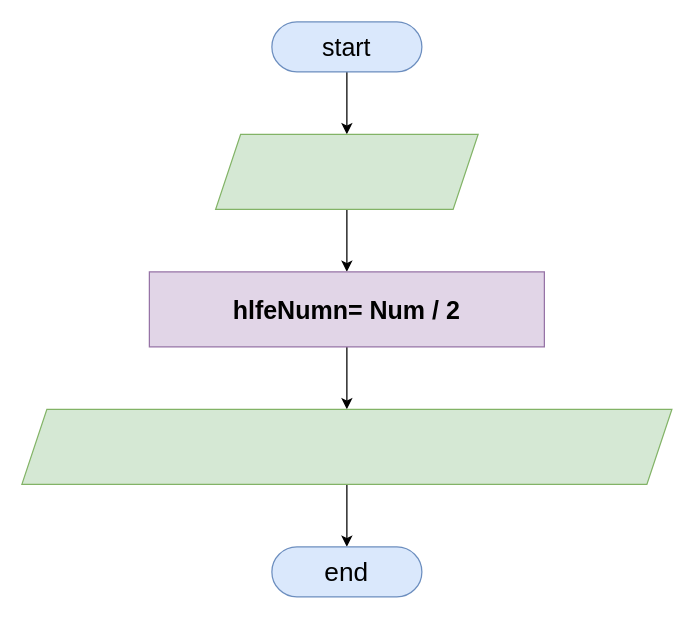
This 694x619 diagram has some shape labels left out. Here are the shapes that lost their labels. From the top down, the box of each, then its label:
(214, 133, 478, 209): read Num
(21, 408, 672, 484): print "the hlfe of"+ Num +"is: " + hlfeNem
